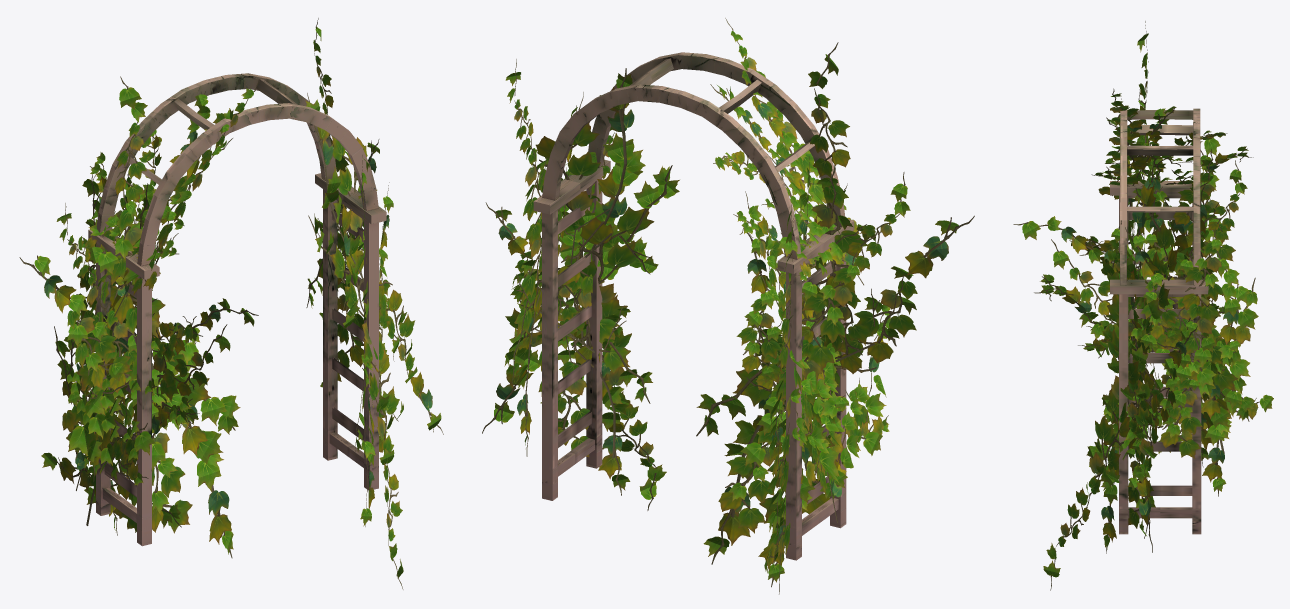
File: P_Ivy02.obj
3 renders of one model, left to right at view 1: azimuth 30°, elevation 25°; view 2: azimuth 150°, elevation 25°; view 3: azimuth 270°, elevation 25°, orthographic. The views are drawn at different scales.
Bounding box in the file's own units: 1.5 × 1.71 × 0.8562.
Materials: 9 (9 with a texture image).
